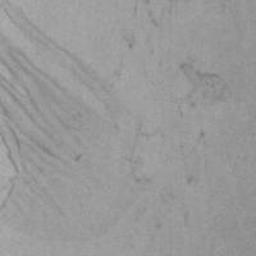Water spot: (0, 0, 161, 250), (180, 61, 230, 118)
